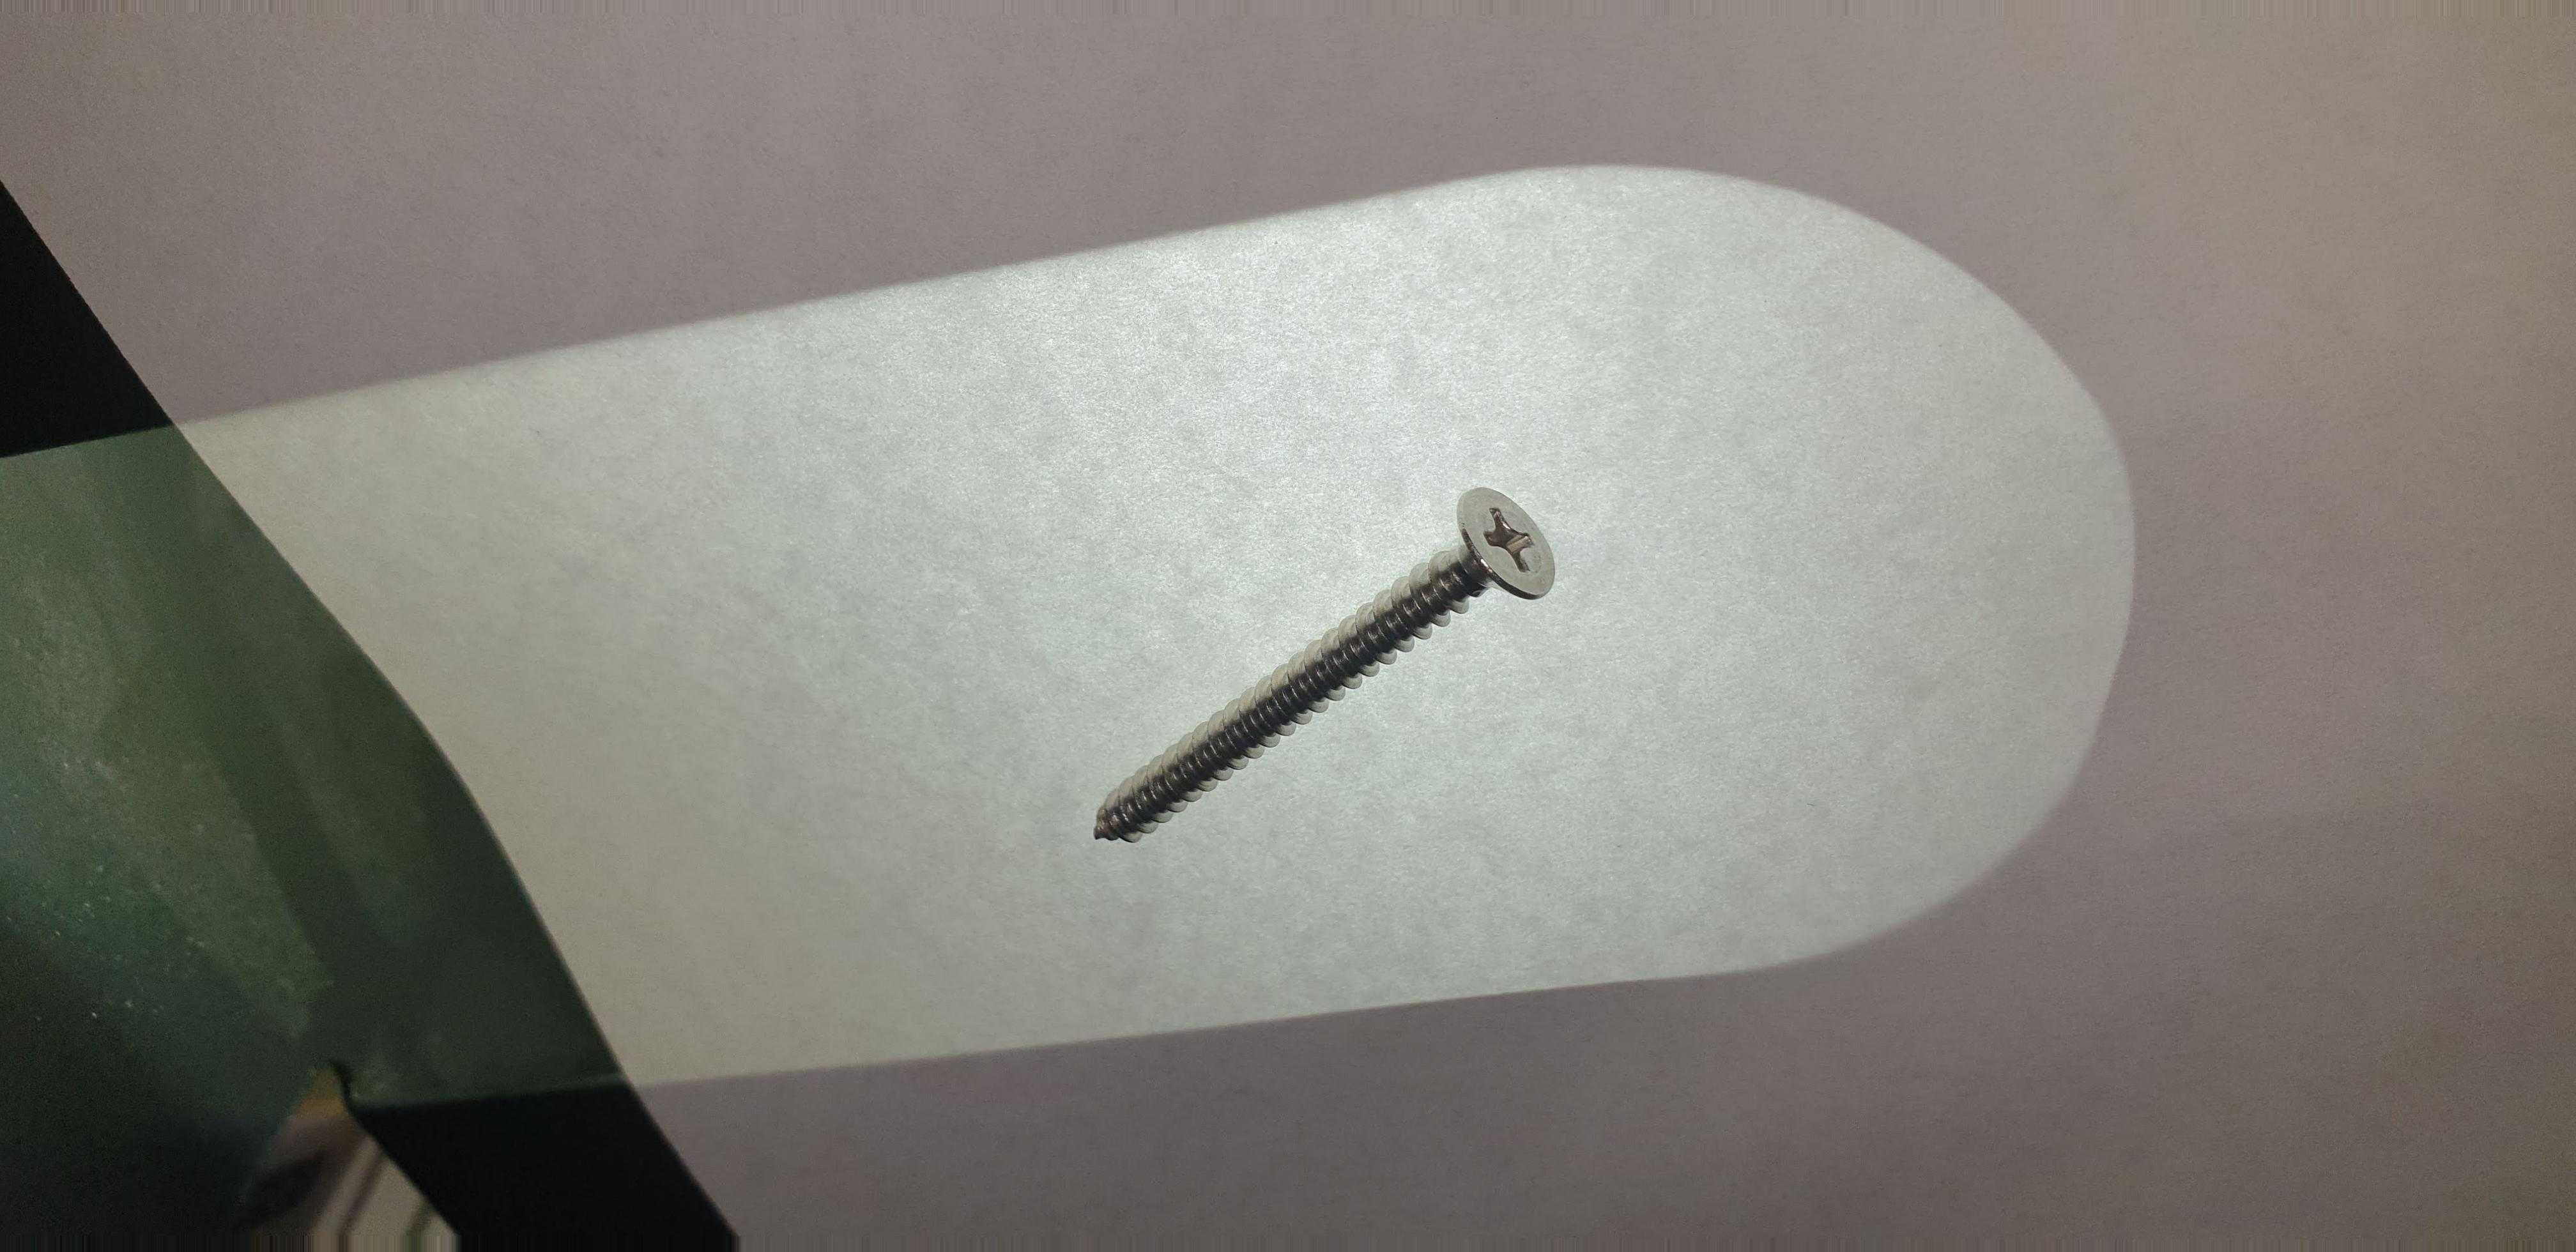fastener: (984, 445, 1630, 889)
